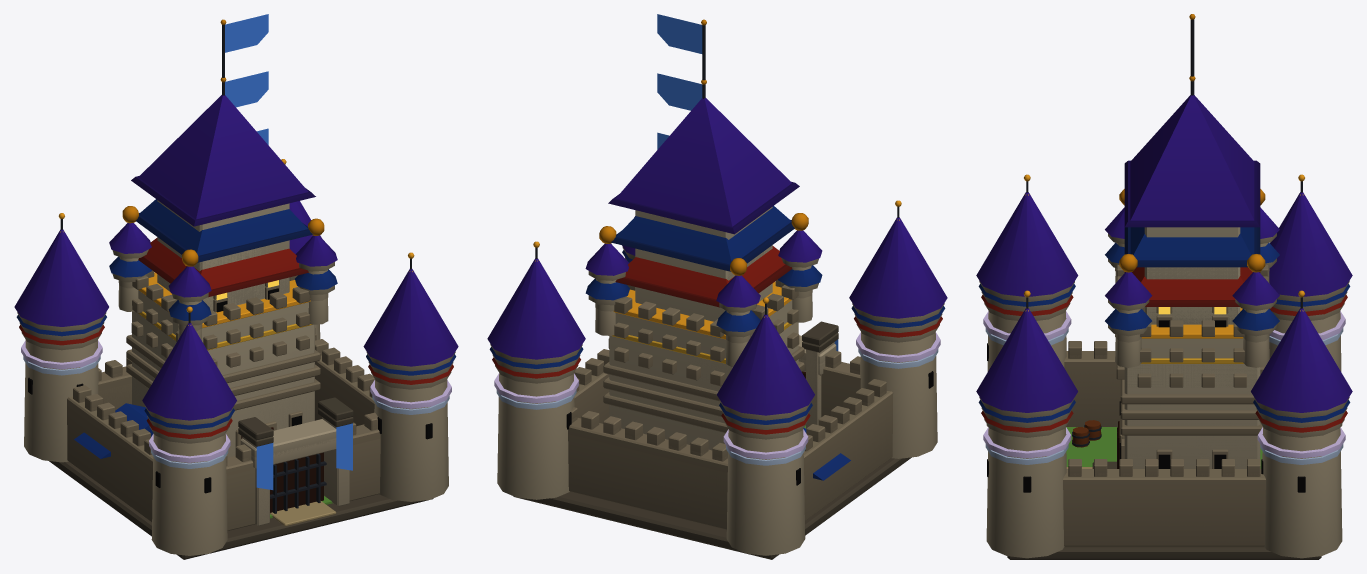
File: b_keep.glb
3 views of the same model, side by side, from view 1: azimuth 30°, elevation 25°; view 2: azimuth 150°, elevation 25°; view 3: azimuth 270°, elevation 25° (orthographic). The views are drawn at different scales.
Parts seen in each view (by area): view 1: keep_t3_body, keep_t2_body, keep_t1_body, keep_t3__banner, keep_t2__banner, keep_t1__banner_gate2; view 2: keep_t3_body, keep_t2_body, keep_t1_body, keep_t3__banner, keep_t2__banner; view 3: keep_t3_body, keep_t1_body, keep_t2_body.
Boxes of the visible parts, left/top/right/bottom form: keep_t3_body: left=14, top=19, right=458, bottom=555; keep_t2_body: left=16, top=77, right=456, bottom=524; keep_t1_body: left=19, top=238, right=453, bottom=559; keep_t3__banner: left=225, top=14, right=268, bottom=52; keep_t2__banner: left=225, top=71, right=268, bottom=107; keep_t1__banner_gate2: left=336, top=427, right=352, bottom=470; keep_t3_body: left=487, top=19, right=947, bottom=555; keep_t2_body: left=489, top=80, right=945, bottom=527; keep_t1_body: left=492, top=246, right=942, bottom=559; keep_t3__banner: left=657, top=14, right=702, bottom=53; keep_t2__banner: left=657, top=73, right=702, bottom=110; keep_t3_body: left=976, top=14, right=1352, bottom=558; keep_t1_body: left=981, top=267, right=1347, bottom=559; keep_t2_body: left=978, top=76, right=1350, bottom=545.
Size of the model in its own units: 4.72 by 6.65 by 4.72.
